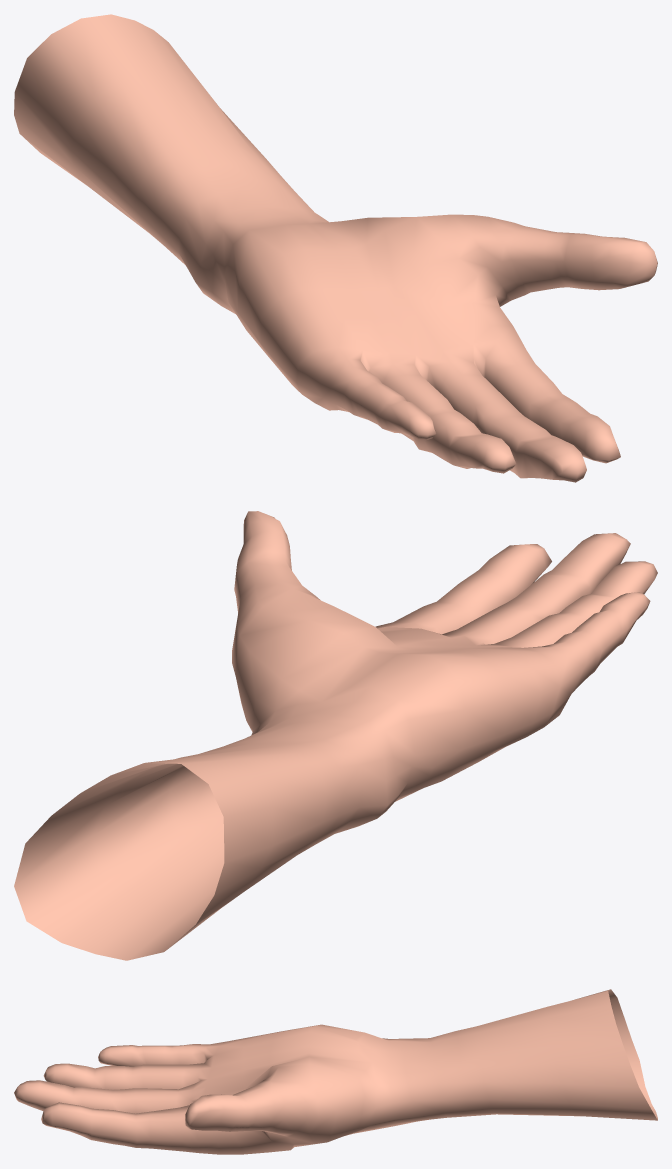
File: 1_4_HandSmoothLeftFront.glb
3 renders of one model, top to bottom at view 1: azimuth 30°, elevation 25°; view 2: azimuth 150°, elevation 25°; view 3: azimuth 270°, elevation 25°, orthographic. The views are drawn at different scales.
Visible parts, largest first — view 1: hand_femme_polySurface1.003; view 2: hand_femme_polySurface1.003; view 3: hand_femme_polySurface1.003.
Part boxes in pixels (box(x1,y1,x2,y2)): hand_femme_polySurface1.003: box(14, 14, 657, 482); hand_femme_polySurface1.003: box(14, 511, 657, 960); hand_femme_polySurface1.003: box(14, 989, 657, 1154).
Bounding box in the file's own units: 0.0733 × 0.042 × 0.1908.
